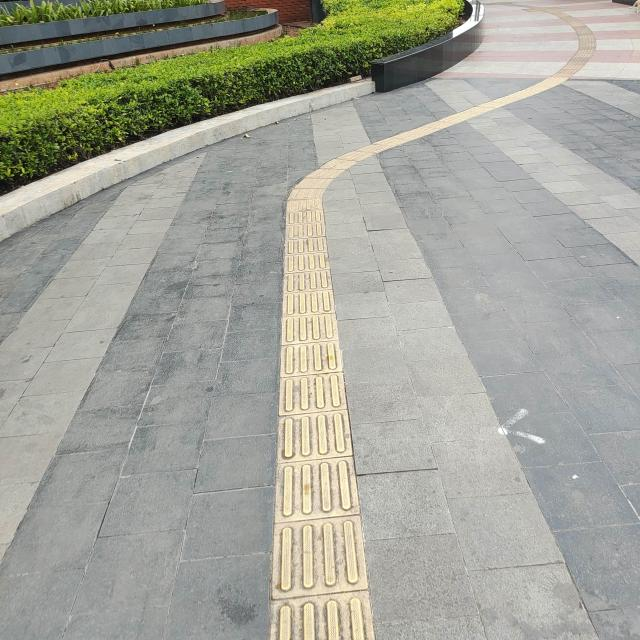lurus: (262, 201, 369, 640)
